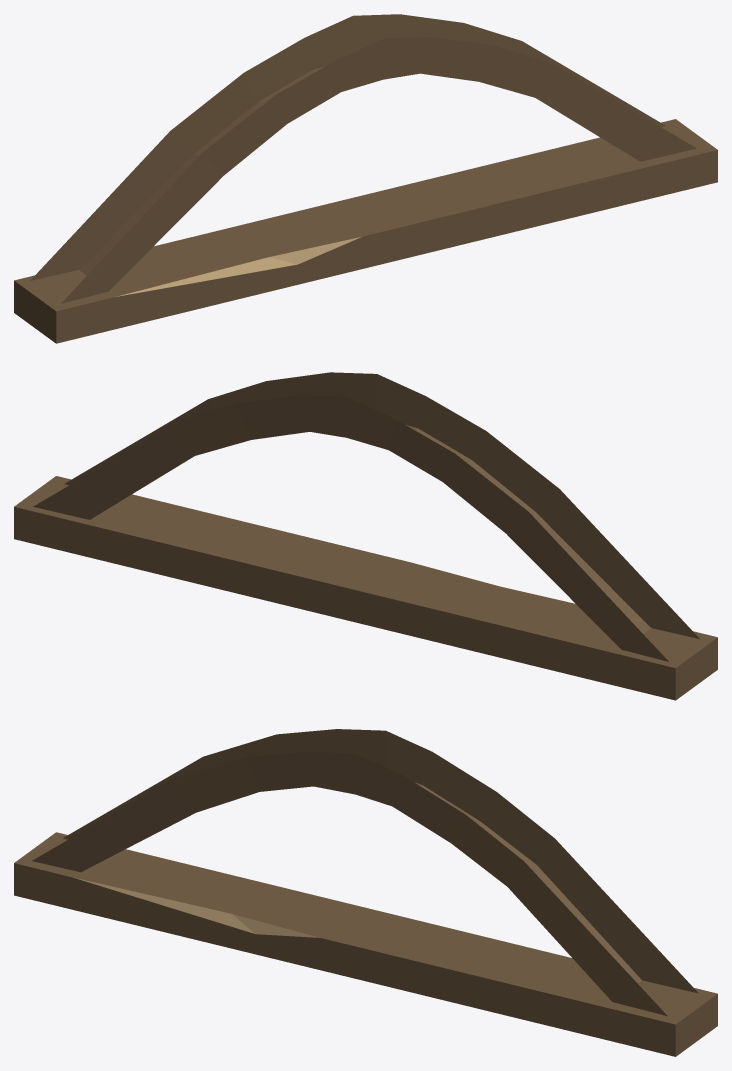
The model's file is rpgpp_ag_roof_02_end_03_window_01a.fbx.
The picture shows the model from 3 angles, top to bottom: view 1: azimuth 30°, elevation 25°; view 2: azimuth 150°, elevation 25°; view 3: azimuth 330°, elevation 25°; orthographic projection.
Parts seen in each view (by area): view 1: rpgpp_ag_roof_02_end_03_window_01a; view 2: rpgpp_ag_roof_02_end_03_window_01a; view 3: rpgpp_ag_roof_02_end_03_window_01a.
Part boxes in pixels (bbox=[...]): rpgpp_ag_roof_02_end_03_window_01a: bbox=[14, 14, 717, 343]; rpgpp_ag_roof_02_end_03_window_01a: bbox=[14, 372, 717, 700]; rpgpp_ag_roof_02_end_03_window_01a: bbox=[14, 729, 717, 1056].
Size of the model in its own units: 5.23 by 1.65 by 0.5785.
